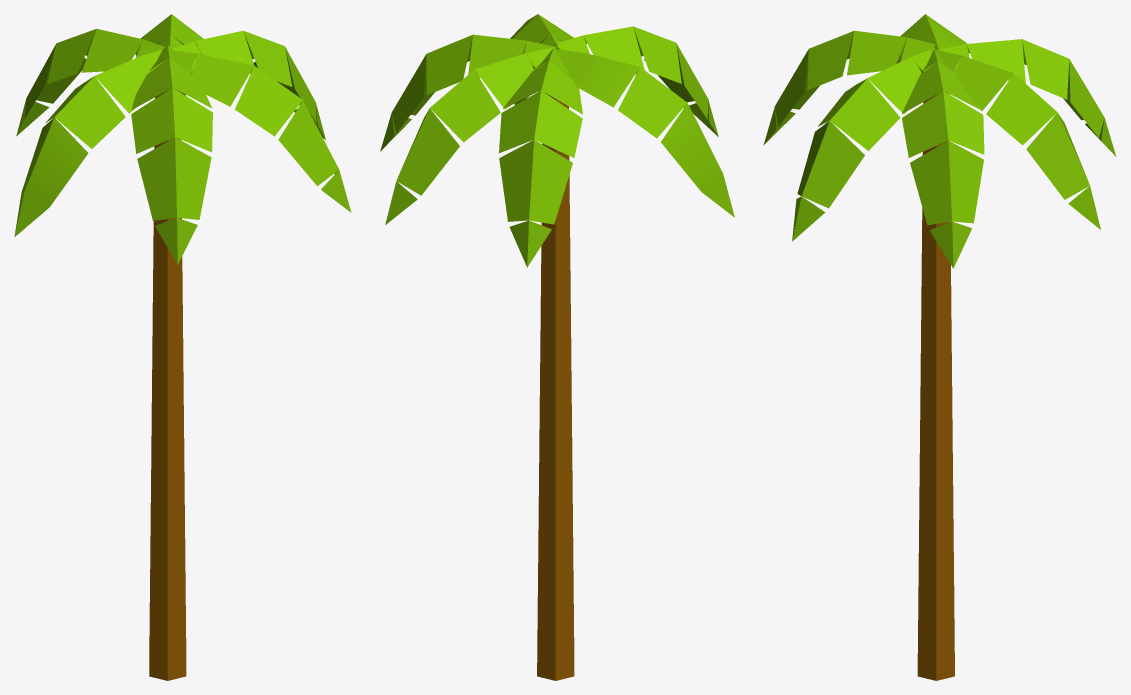
The model's file is yezishu1.fbx.
The picture shows the model from 3 angles, left to right: view 1: azimuth 30°, elevation 25°; view 2: azimuth 150°, elevation 25°; view 3: azimuth 270°, elevation 25°; orthographic projection.
Parts seen in each view (by area): view 1: pasted__yezishu; view 2: pasted__yezishu; view 3: pasted__yezishu.
Part boxes in pixels (x1=…): pasted__yezishu: x1=14, y1=14, x2=351, y2=680; pasted__yezishu: x1=380, y1=14, x2=734, y2=680; pasted__yezishu: x1=763, y1=14, x2=1116, y2=680.
Bounding box in the file's own units: 8.9 × 16.03 × 8.16.
